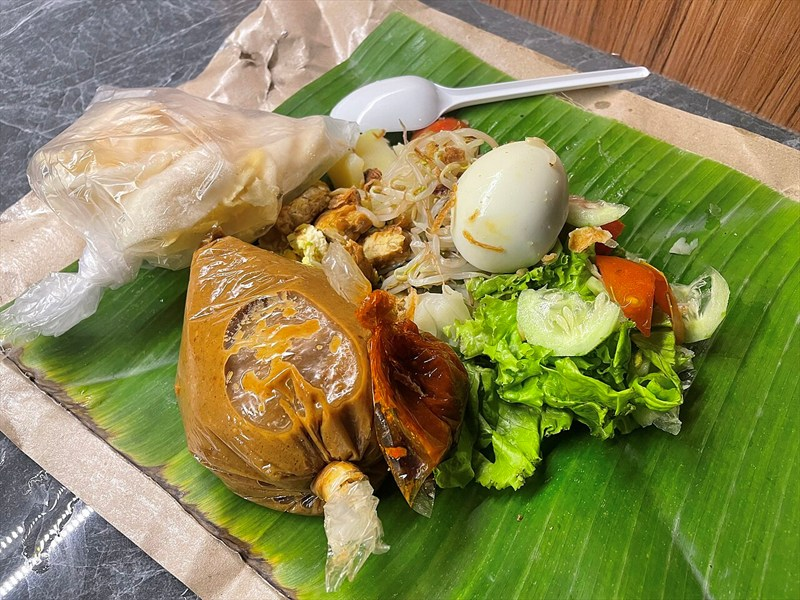Gado-Gado: (192, 99, 693, 506)
